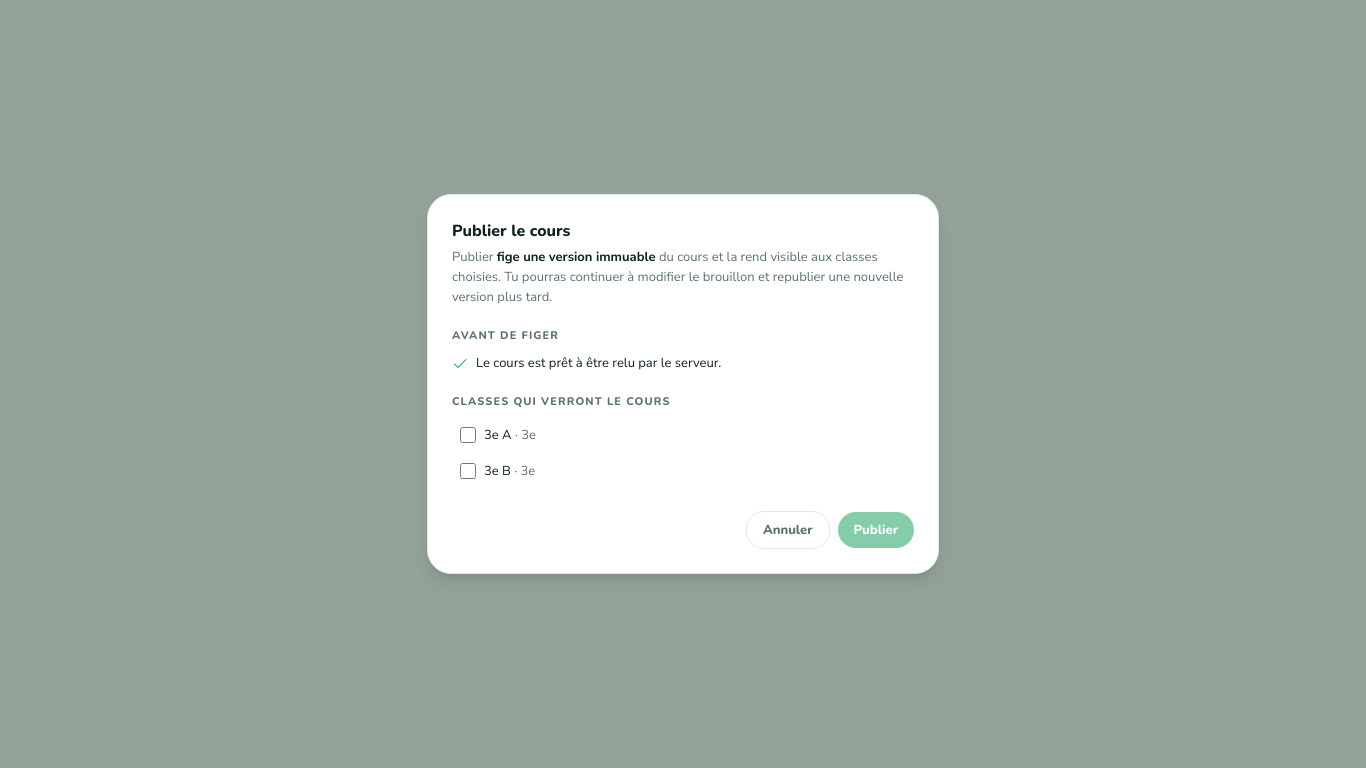
PublierCours › affiche le motif d’un 422 sans violations
Click the checkbox labelled "3e A · 3e" at (468, 435), box [460, 427, 476, 443]
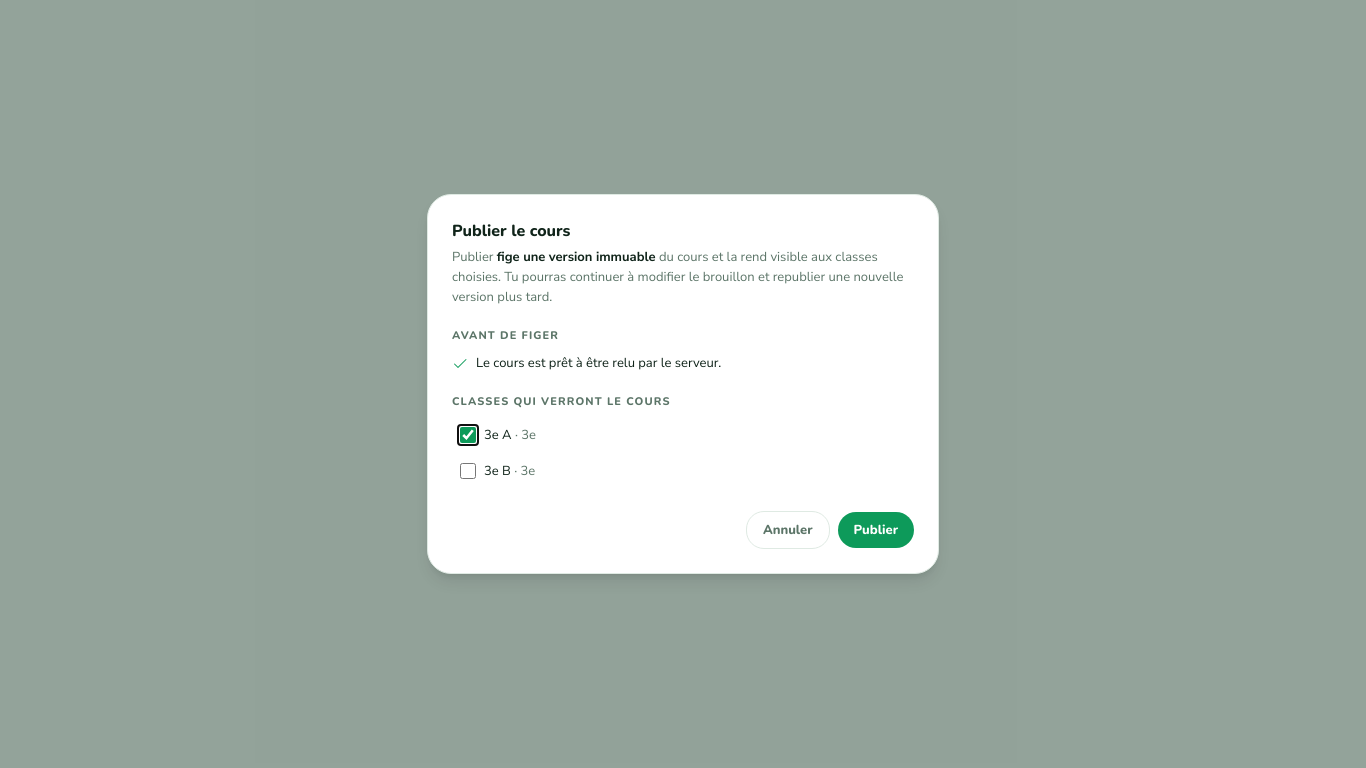
Click the button "Publier" at (876, 530), box [838, 512, 914, 548]
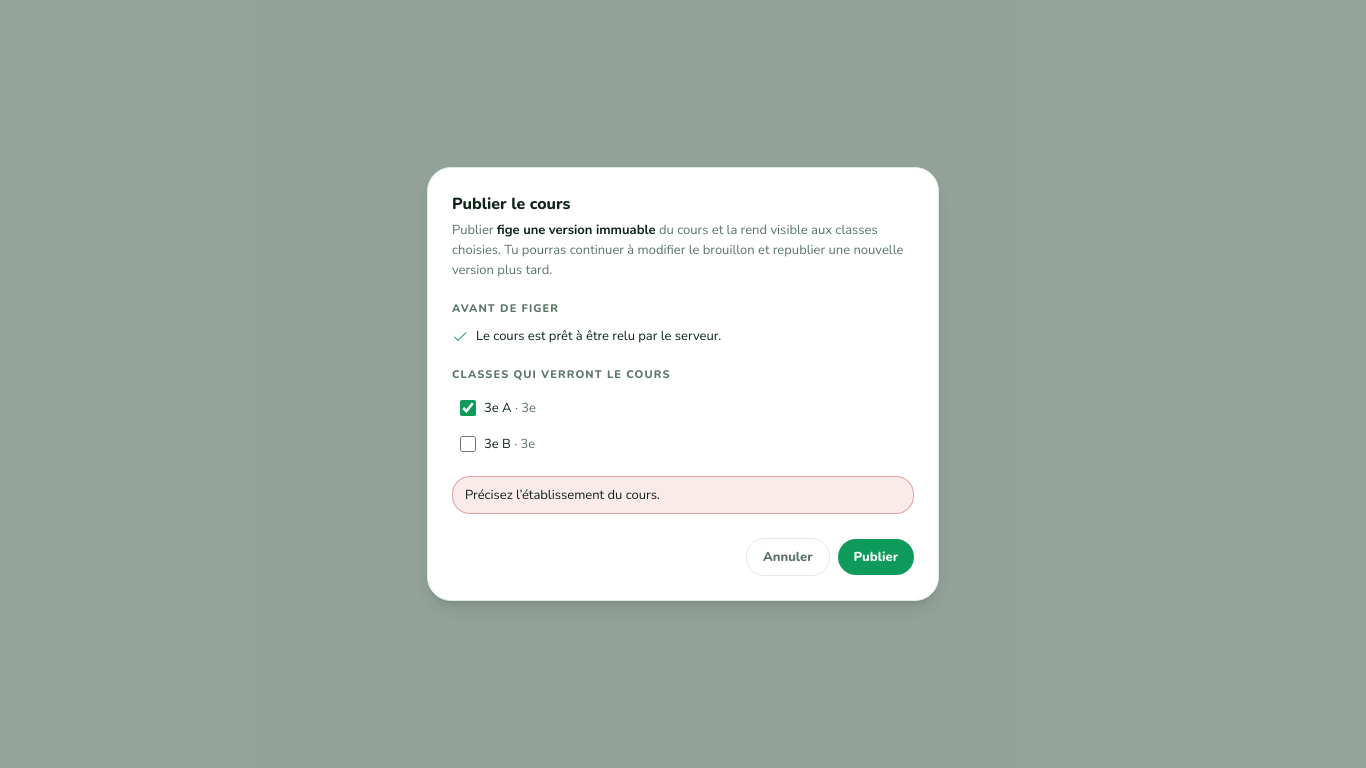
Expected: the message reads "Précisez l’établissement du cours.", [465, 486, 660, 504]
